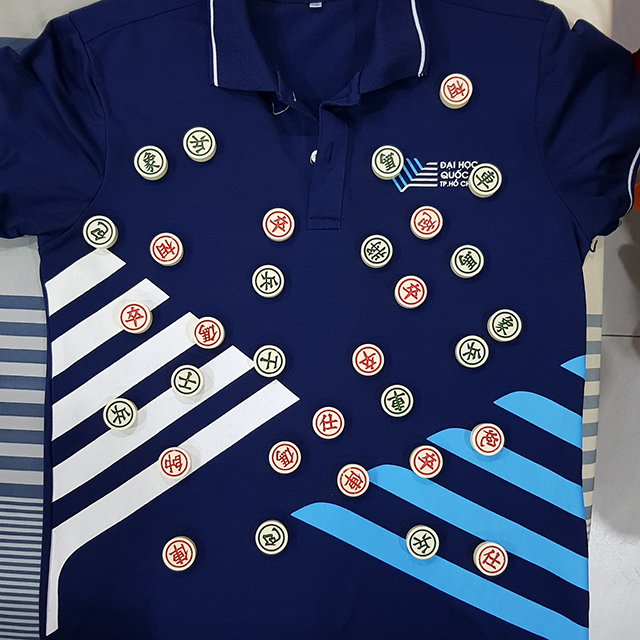Black-Cannon: (251, 518, 292, 556), (81, 212, 118, 249)
Black-Chariot: (468, 160, 506, 198), (381, 380, 414, 420)
Black-Elephant: (486, 305, 525, 343), (132, 143, 172, 180)
Black-General: (360, 231, 393, 269)
Black-Guard: (251, 342, 291, 379), (167, 360, 205, 398)
Black-Horse: (448, 242, 490, 278), (371, 142, 406, 180)
Black-Soldier: (452, 334, 492, 372), (404, 522, 444, 560), (181, 124, 220, 162), (249, 264, 289, 298), (104, 395, 138, 431)
Red-Cannon: (471, 420, 506, 460), (408, 203, 444, 240)
Red-Chariot: (334, 460, 372, 499), (161, 534, 197, 573)
Red-Elephant: (436, 70, 476, 109), (148, 230, 186, 267)
Red-General: (158, 443, 190, 479)
Red-Guard: (472, 540, 514, 578), (312, 404, 348, 440)
Red-Horse: (190, 313, 228, 352), (268, 439, 304, 476)
Red-Soldier: (259, 205, 297, 244), (393, 274, 430, 311), (410, 441, 446, 477), (120, 298, 152, 337), (352, 341, 384, 378)
